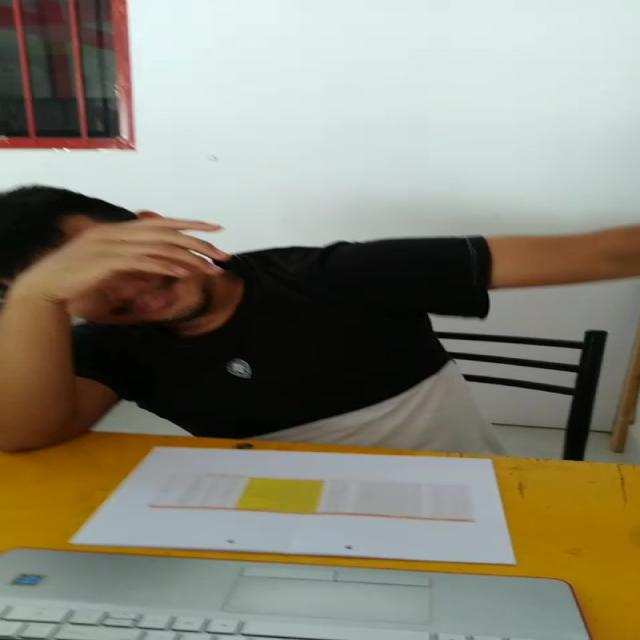7_mano_rostro: (0, 221, 231, 316)
